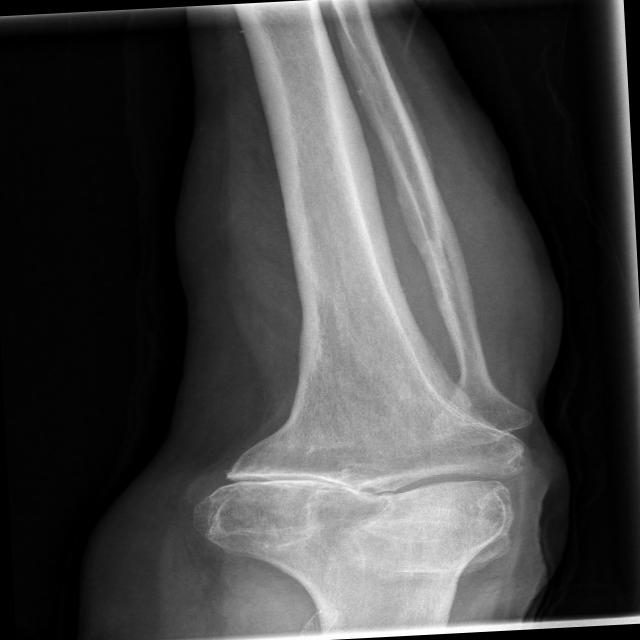Knee: (185, 392, 534, 580)
